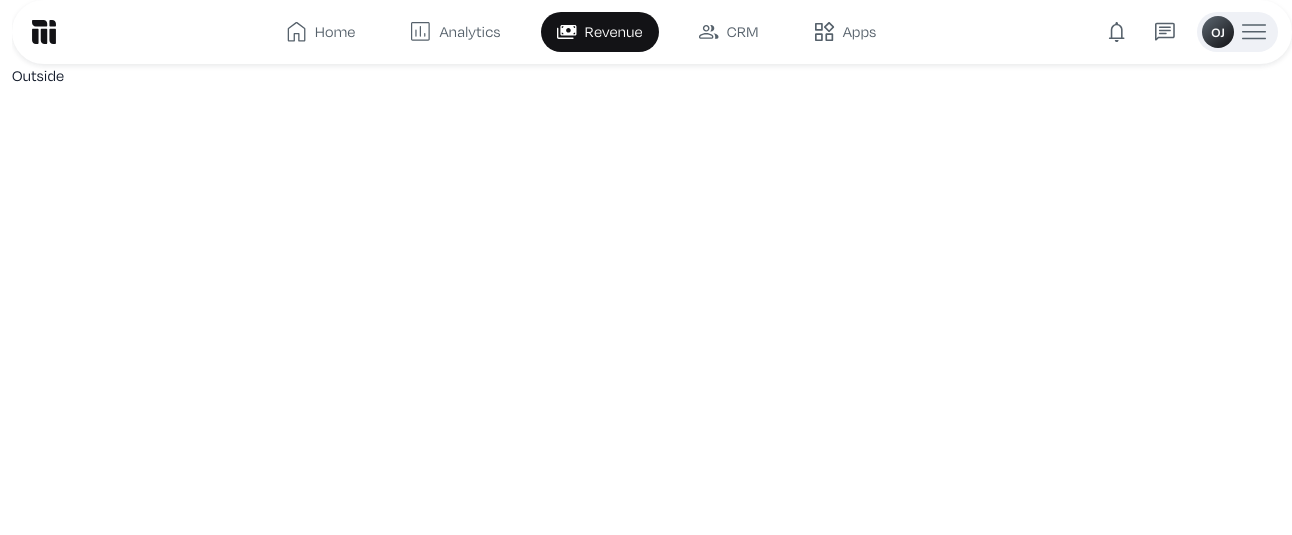
Test: Navbar › should close profile menu when clicking outside
The image size is (1292, 535).
Click the button "OJ".
click(1238, 32)  # box left=1197, top=12, right=1278, bottom=52
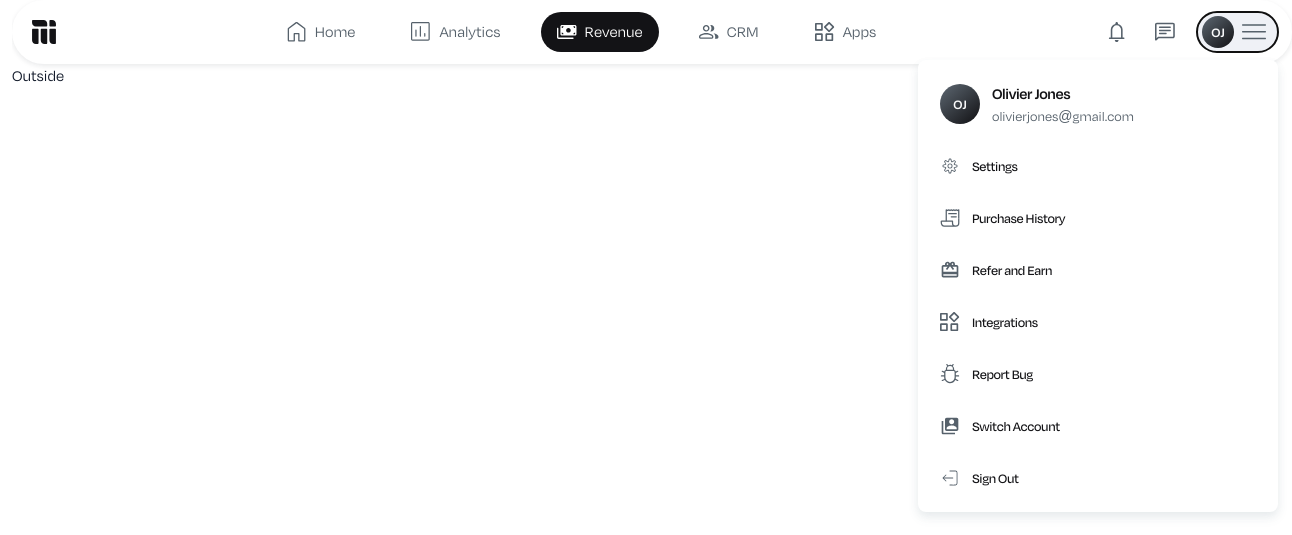
Expected: the text "Settings" is shown, left=972, top=154, right=1018, bottom=178
Click the text with test id "outside".
click(38, 76)  # box left=12, top=65, right=64, bottom=86
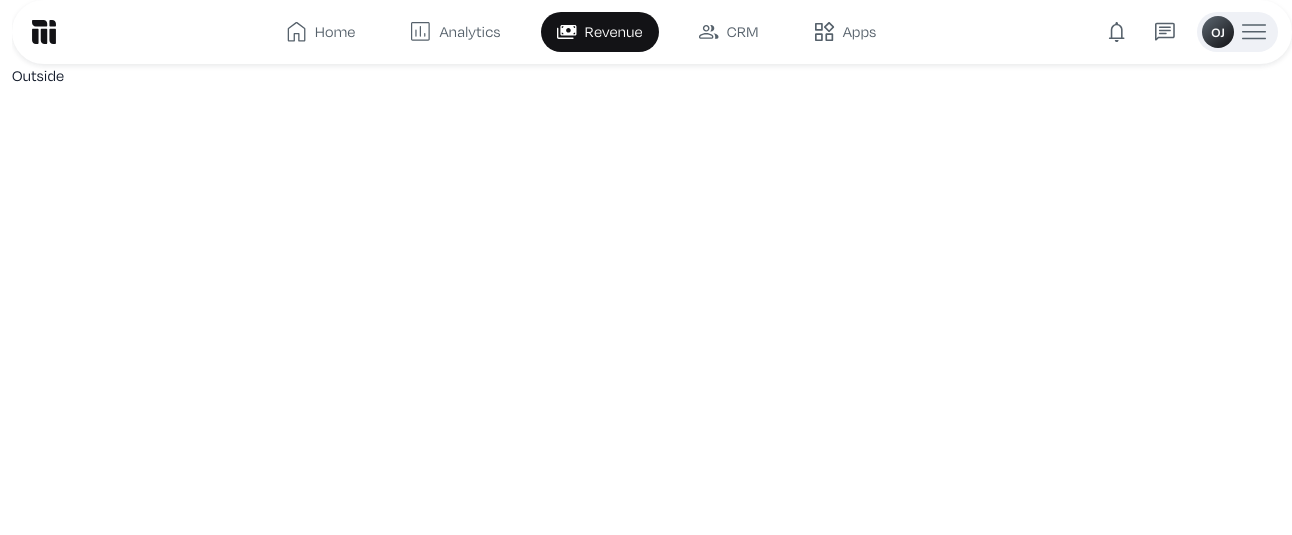
Expected: the text "Settings" is gone
